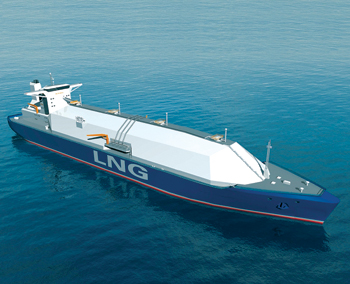Cargoship: (6, 72, 341, 226)
